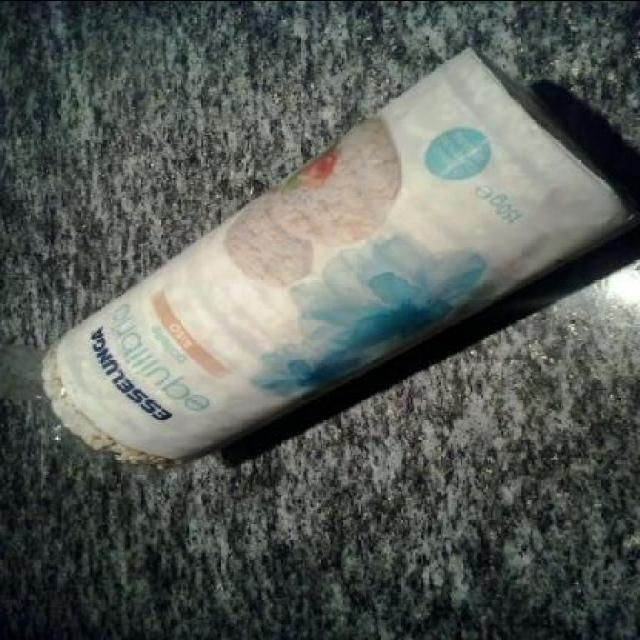Gallette di riso: (52, 44, 632, 472)
